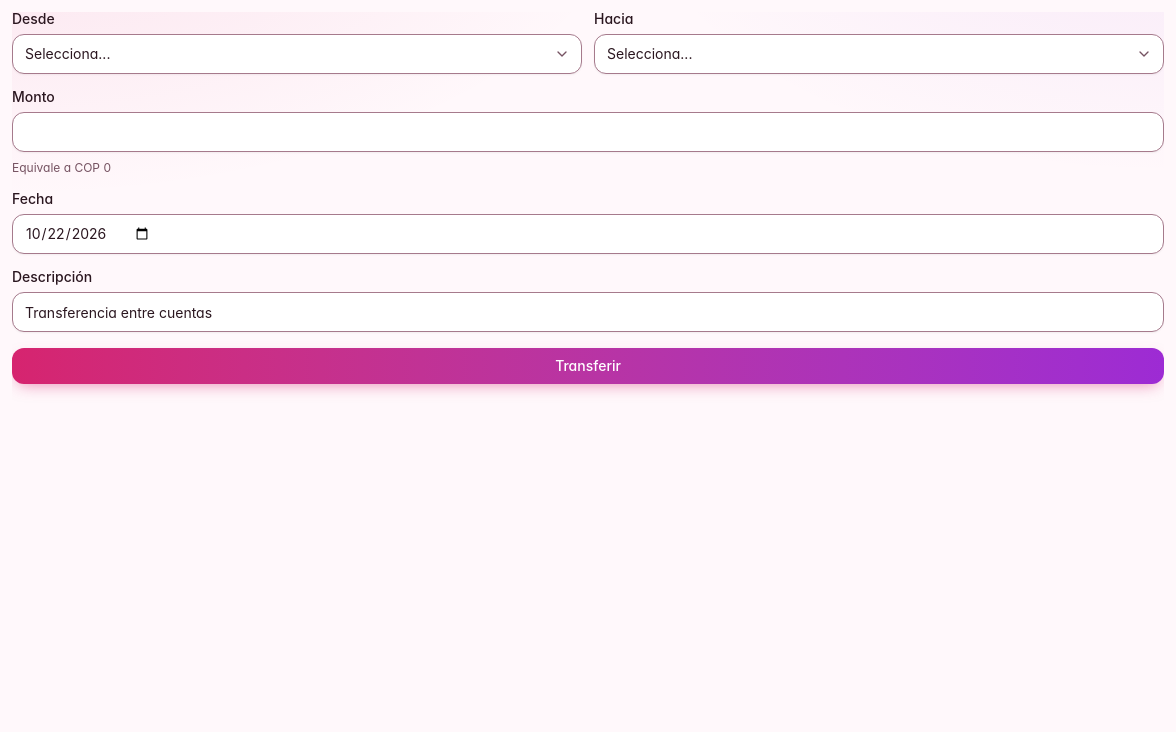
TransferForm › avisa con pedagogía cuando el destino es una tarjeta de crédito
Expected: the text "Estás pagando una tarjeta de crédito" is not shown
Select "Efectivo" in the dropdown labelled "Desde": (297, 54) x1=12 y1=34 x2=582 y2=74
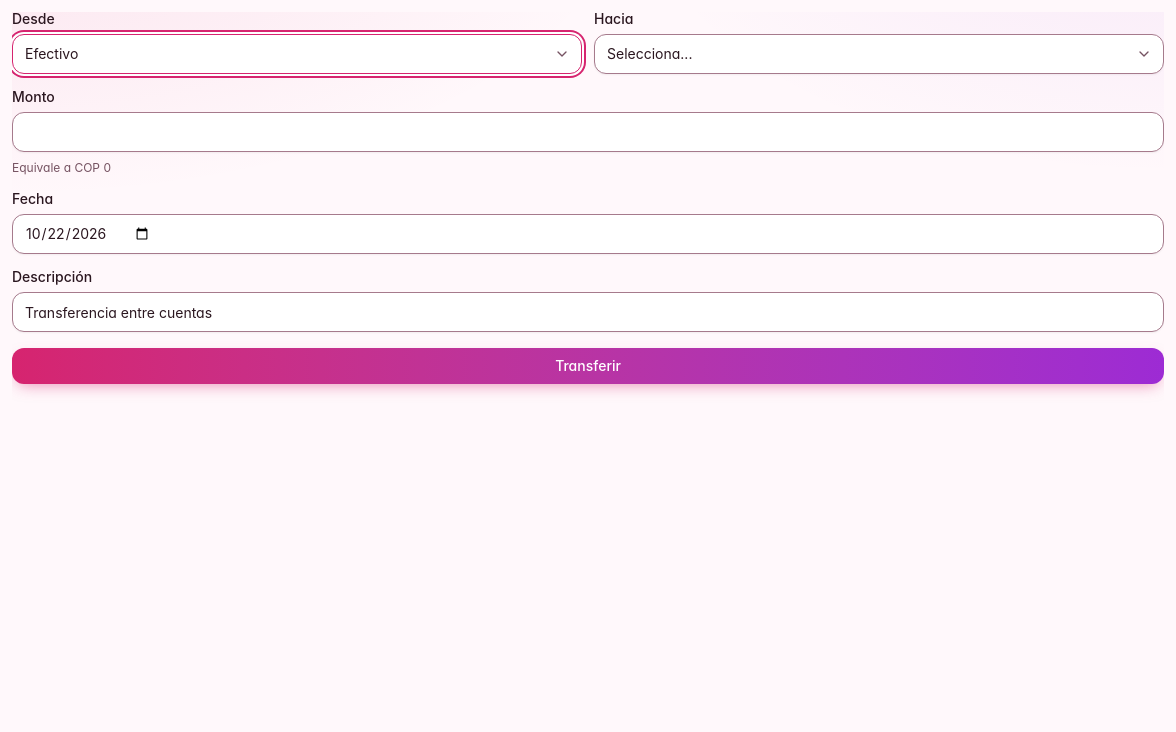
Select "Visa" in the dropdown labelled "Hacia": (879, 54) x1=594 y1=34 x2=1164 y2=74
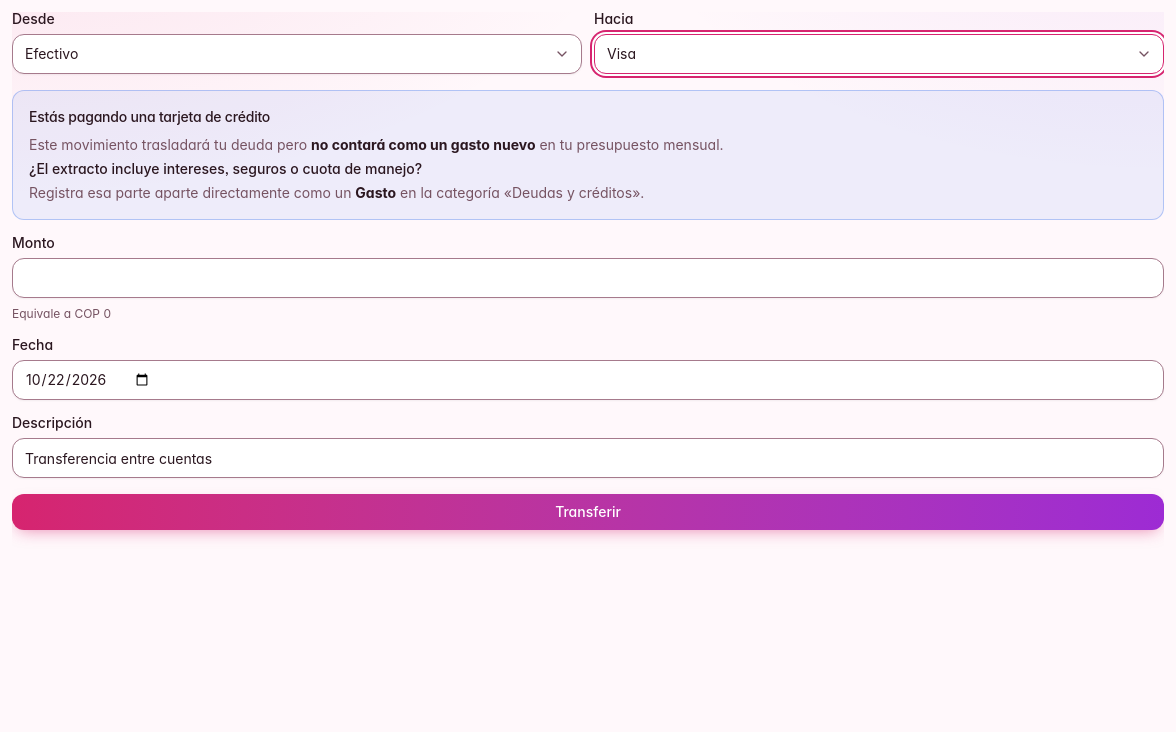
Expected: the heading "Estás pagando una tarjeta de crédito" is shown, x1=29 y1=108 x2=270 y2=125
Expected: the text "no contará como un gasto nuevo" is shown, x1=311 y1=136 x2=536 y2=153
